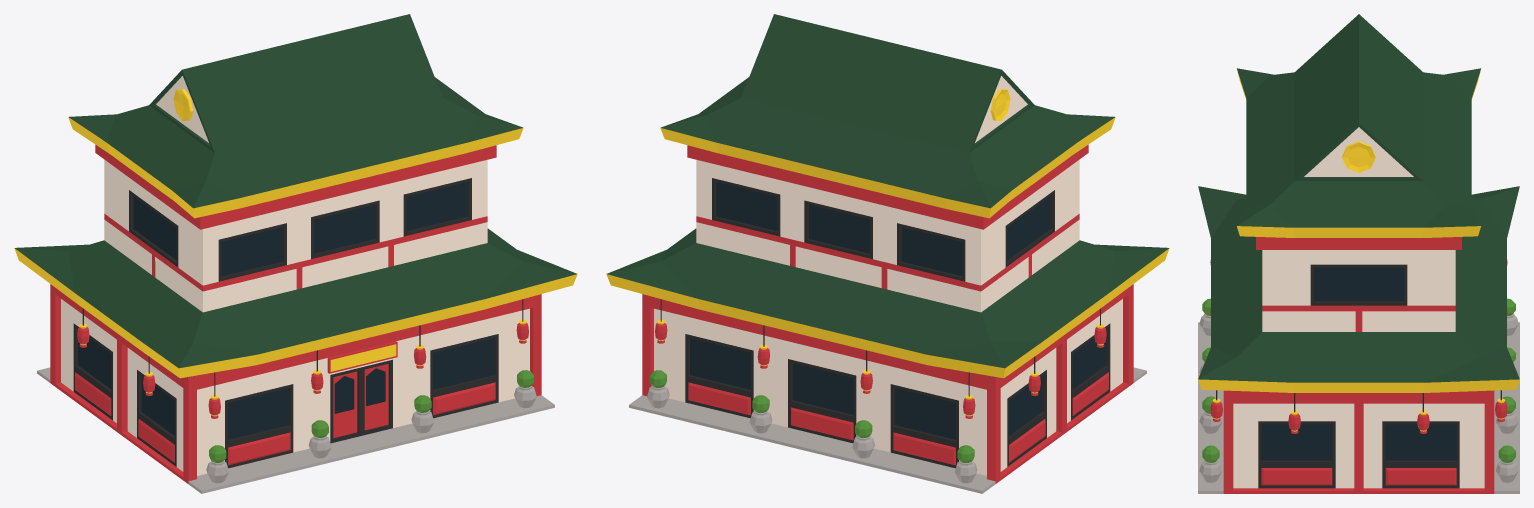
The model's file is building-restuarant-china.glb.
3 views of the same model, side by side, from view 1: azimuth 30°, elevation 25°; view 2: azimuth 150°, elevation 25°; view 3: azimuth 270°, elevation 25° (orthographic). The views are drawn at different scales.
Visible parts, largest first — view 1: building-restuarant-china; view 2: building-restuarant-china; view 3: building-restuarant-china.
Part boxes in pixels (x1,y1,x2,y2): building-restuarant-china: (14,14,577,493); building-restuarant-china: (606,14,1169,493); building-restuarant-china: (1198,14,1519,493).
Bounding box in the file's own units: 14 × 11.7 × 10.
1 material, 1 textured.
